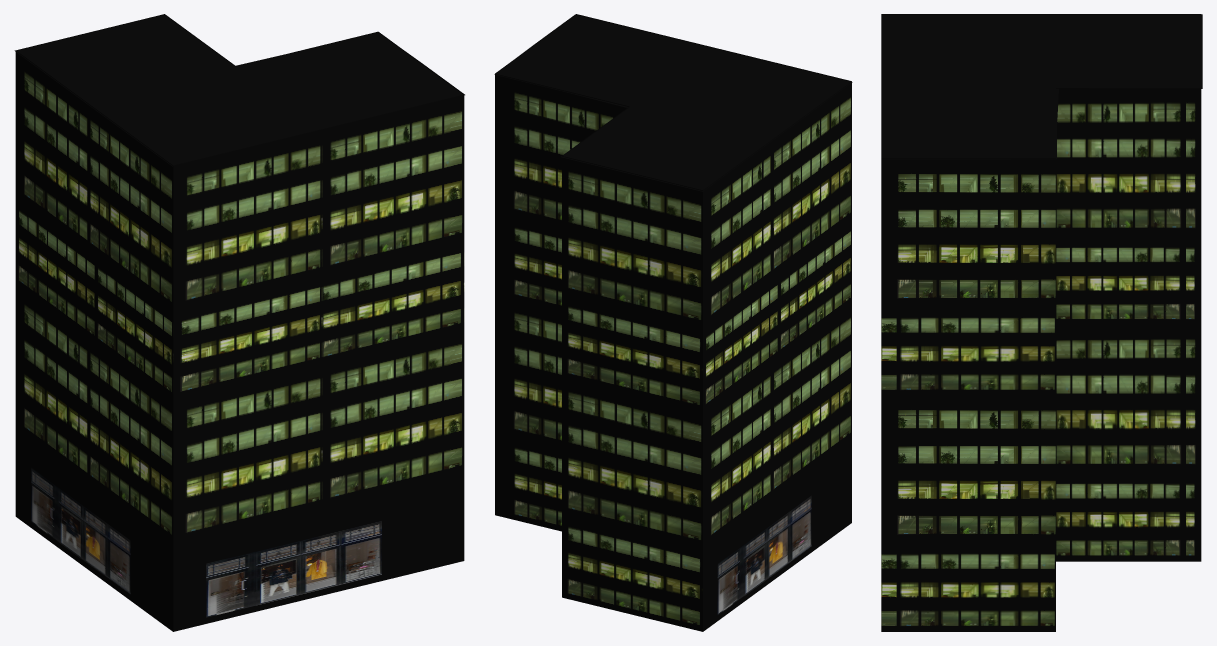
File: building9.FBX
3 views of the same model, side by side, from view 1: azimuth 30°, elevation 25°; view 2: azimuth 150°, elevation 25°; view 3: azimuth 270°, elevation 25° (orthographic). The views are drawn at different scales.
Parts seen in each view (by area): view 1: Box001; view 2: Box001; view 3: Box001.
Part boxes in pixels (x1=…): Box001: x1=14, y1=14, x2=464, y2=631; Box001: x1=494, y1=14, x2=852, y2=631; Box001: x1=881, y1=14, x2=1202, y2=631.
Size of the model in its own units: 78.7 by 120 by 73.59.
